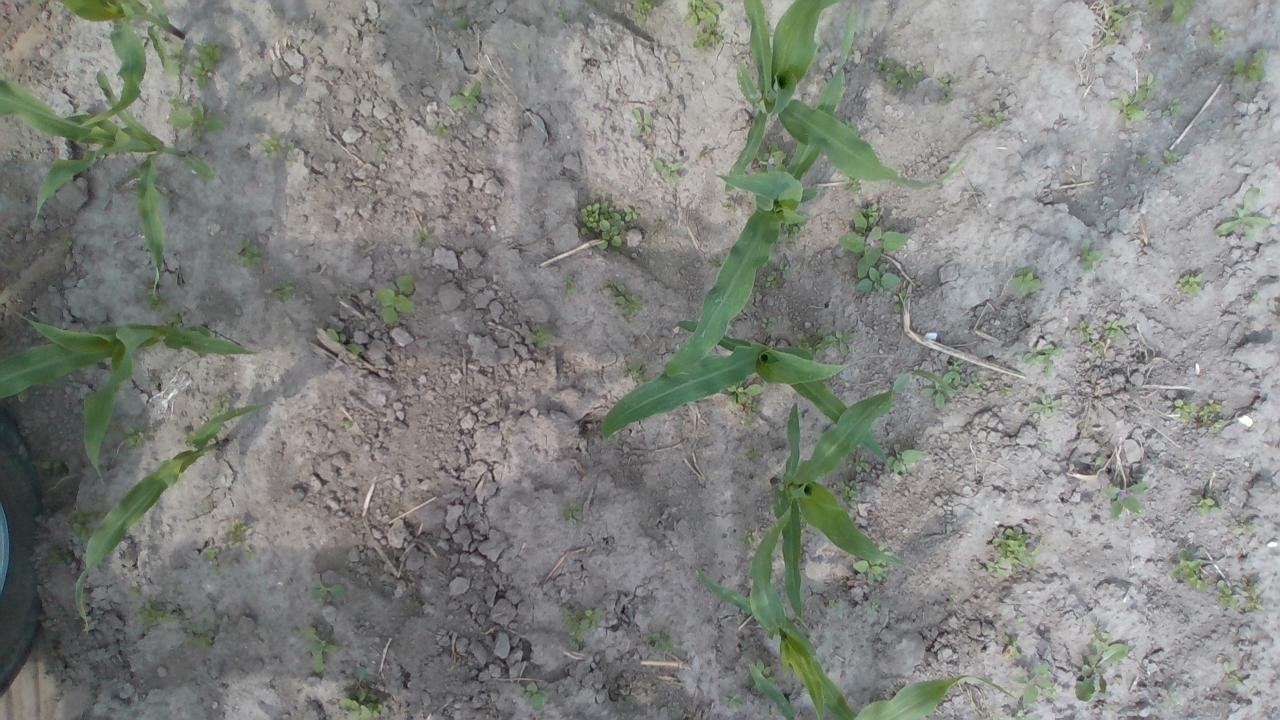Maize: (664, 4, 857, 380), (0, 67, 216, 298), (724, 0, 976, 191), (772, 369, 951, 625), (0, 314, 262, 484), (74, 404, 263, 636), (598, 319, 888, 469), (691, 566, 856, 720), (58, 0, 188, 127), (851, 674, 1022, 720), (746, 662, 798, 720)
Weeds: (838, 202, 909, 294), (1076, 624, 1128, 702), (578, 201, 642, 251), (1213, 187, 1270, 240), (338, 666, 382, 720), (166, 103, 224, 138), (298, 626, 339, 674), (376, 274, 415, 324), (1012, 662, 1056, 704), (991, 528, 1039, 566), (794, 328, 856, 357), (874, 56, 922, 92), (559, 605, 602, 645), (1102, 482, 1146, 518), (920, 371, 960, 410), (1104, 6, 1141, 46), (1170, 547, 1204, 590), (222, 518, 256, 560), (1109, 89, 1146, 127), (192, 42, 222, 88), (726, 384, 764, 420), (605, 278, 641, 316), (1022, 344, 1062, 376), (134, 601, 176, 630), (258, 134, 294, 167), (1232, 49, 1267, 82), (884, 444, 921, 474), (1150, 0, 1196, 24), (1188, 485, 1221, 518), (232, 237, 264, 269), (447, 82, 481, 112), (514, 682, 550, 710), (157, 40, 185, 76), (852, 557, 888, 585), (683, 0, 722, 25), (182, 622, 216, 650), (1028, 390, 1063, 417), (1199, 398, 1225, 434), (758, 142, 788, 172), (326, 328, 360, 354), (310, 577, 346, 601), (1011, 268, 1042, 295), (1239, 580, 1265, 612), (142, 280, 167, 312), (652, 159, 684, 183), (1078, 239, 1102, 271), (643, 628, 674, 652), (692, 26, 724, 48), (526, 324, 554, 348), (264, 282, 294, 304), (1222, 660, 1244, 690), (630, 109, 653, 137), (1172, 398, 1198, 422), (1216, 578, 1236, 609), (1230, 514, 1258, 536), (70, 512, 90, 542), (632, 0, 654, 26), (1000, 634, 1021, 660), (756, 659, 776, 686), (622, 364, 650, 383), (935, 75, 953, 104), (1176, 274, 1202, 294), (556, 501, 582, 521), (835, 480, 858, 502), (1158, 682, 1179, 706), (846, 454, 871, 474), (718, 692, 745, 710), (974, 110, 1004, 126), (411, 226, 432, 248), (1102, 318, 1125, 338), (48, 550, 76, 566), (122, 427, 144, 447), (1142, 72, 1160, 96), (1072, 321, 1092, 341), (200, 547, 223, 564), (960, 374, 983, 391), (738, 528, 757, 548), (985, 562, 1008, 578), (209, 398, 228, 417), (1162, 98, 1180, 117), (1209, 25, 1227, 44), (741, 446, 763, 460), (167, 93, 186, 109), (562, 272, 574, 296), (1088, 458, 1104, 476), (43, 462, 63, 476), (891, 294, 904, 314), (128, 580, 144, 596), (431, 123, 448, 138), (766, 271, 780, 289), (1162, 150, 1180, 164), (58, 238, 74, 253), (168, 312, 185, 326), (845, 175, 859, 192), (782, 223, 800, 236), (828, 599, 844, 613), (453, 16, 469, 30), (760, 317, 777, 330), (708, 255, 722, 270), (1016, 710, 1036, 720), (1271, 301, 1280, 323), (878, 542, 892, 556), (721, 199, 737, 211), (1135, 152, 1150, 164), (1036, 439, 1050, 450), (1251, 291, 1262, 304), (1090, 340, 1103, 351), (949, 360, 963, 370), (1000, 386, 1014, 396), (739, 639, 754, 648), (556, 9, 568, 20), (232, 80, 243, 91), (340, 420, 351, 428), (870, 600, 878, 611), (1078, 421, 1086, 431), (781, 264, 789, 274)
